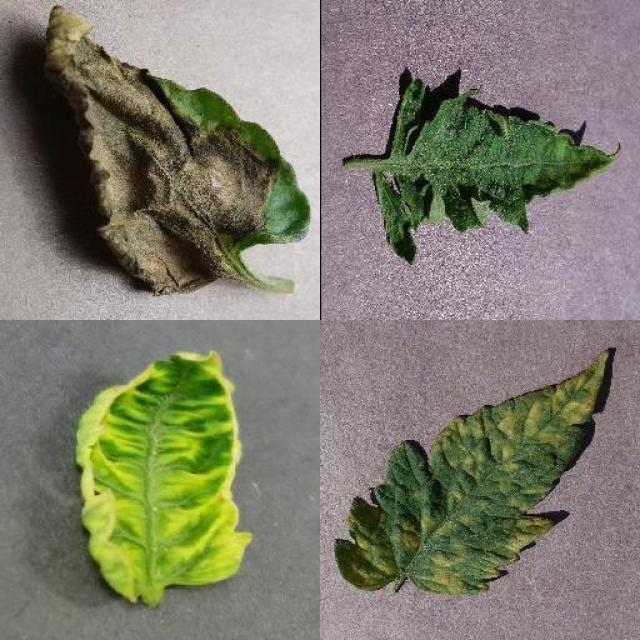Late Blight: (42, 1, 310, 295)
